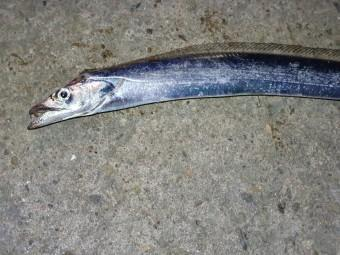fish: (28, 43, 339, 129)
